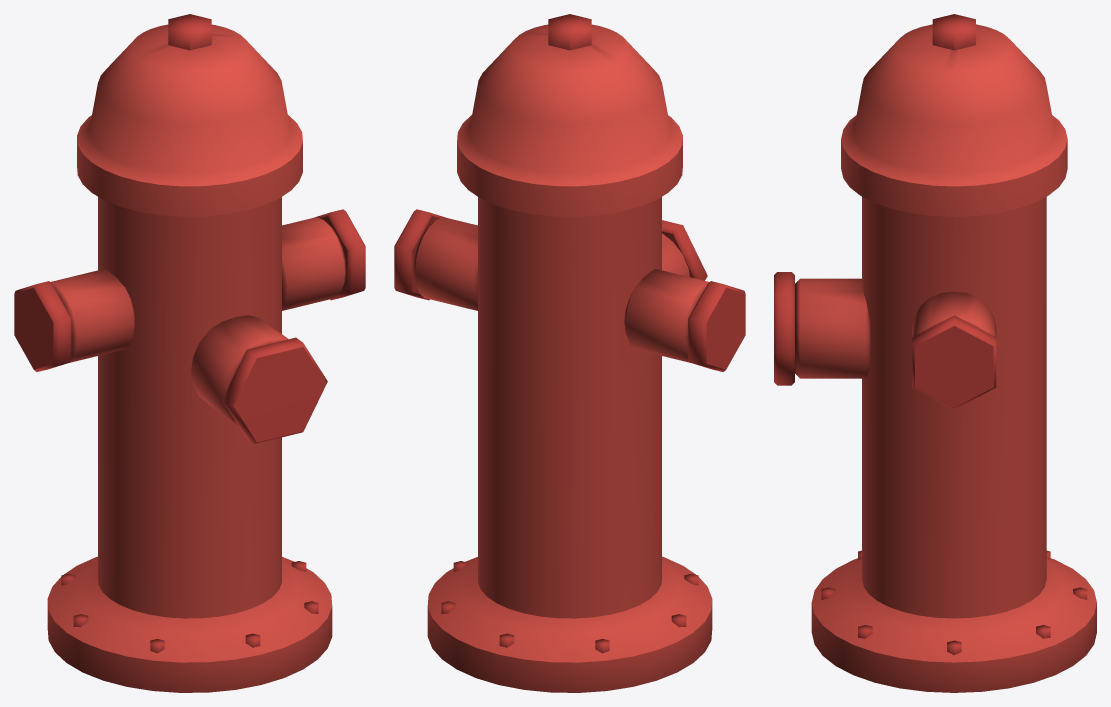
The model's file is hydrant.glb.
The picture shows the model from 3 angles, left to right: view 1: azimuth 30°, elevation 25°; view 2: azimuth 150°, elevation 25°; view 3: azimuth 270°, elevation 25°; orthographic projection.
Parts seen in each view (by area): view 1: p_hydrant; view 2: p_hydrant; view 3: p_hydrant.
Boxes of the visible parts, <box> form: p_hydrant: <box>14,14,365,692</box>; p_hydrant: <box>394,14,745,692</box>; p_hydrant: <box>774,14,1096,692</box>.
Bounding box in the file's own units: 0.43 × 0.8 × 0.385.
